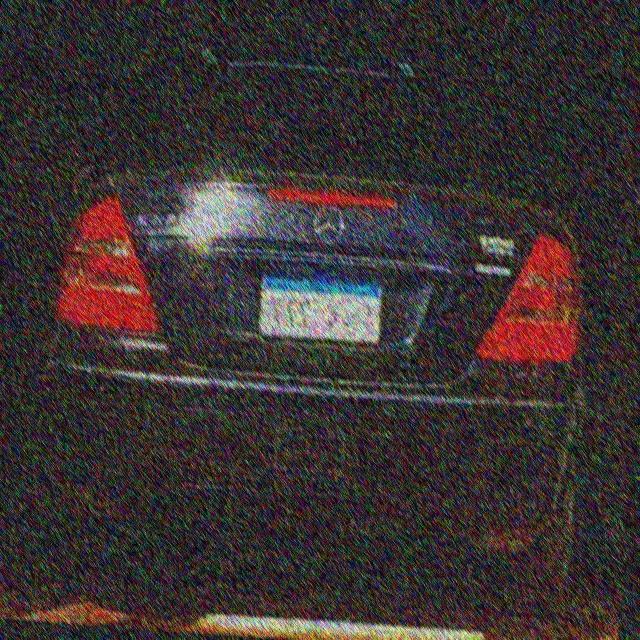License Plate: (254, 254, 389, 352)
